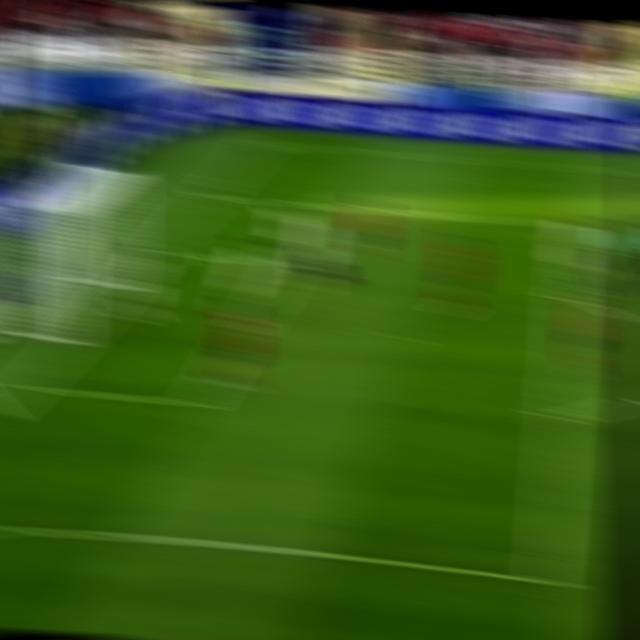bigarea_bottom_inner: (522, 556, 571, 600)
bigarea_top_outter: (194, 184, 227, 205)
bottom_arc_area_intersection: (534, 402, 582, 431)
corner: (245, 134, 277, 150)
smallarea_bottom_inner: (181, 383, 219, 419)
smallarea_bottom_outter: (7, 371, 47, 401)
smallarea_top_inner: (269, 257, 305, 274)
smallarea_top_outter: (142, 237, 177, 263)
top_arc_area_intersection: (548, 285, 585, 309)
